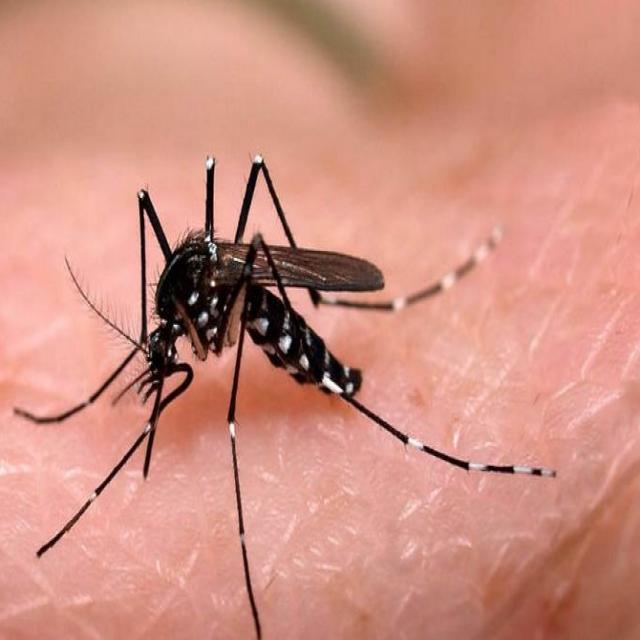Mosquito: (0, 129, 576, 640)
